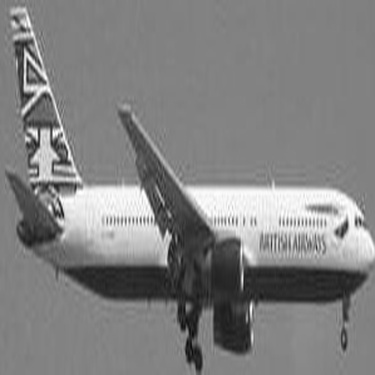airplane: (2, 1, 361, 356)
